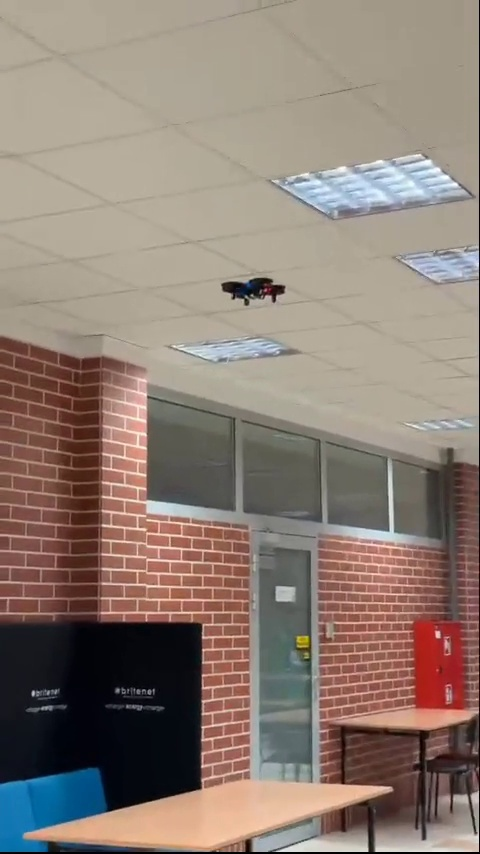drone: (219, 273, 284, 309)
